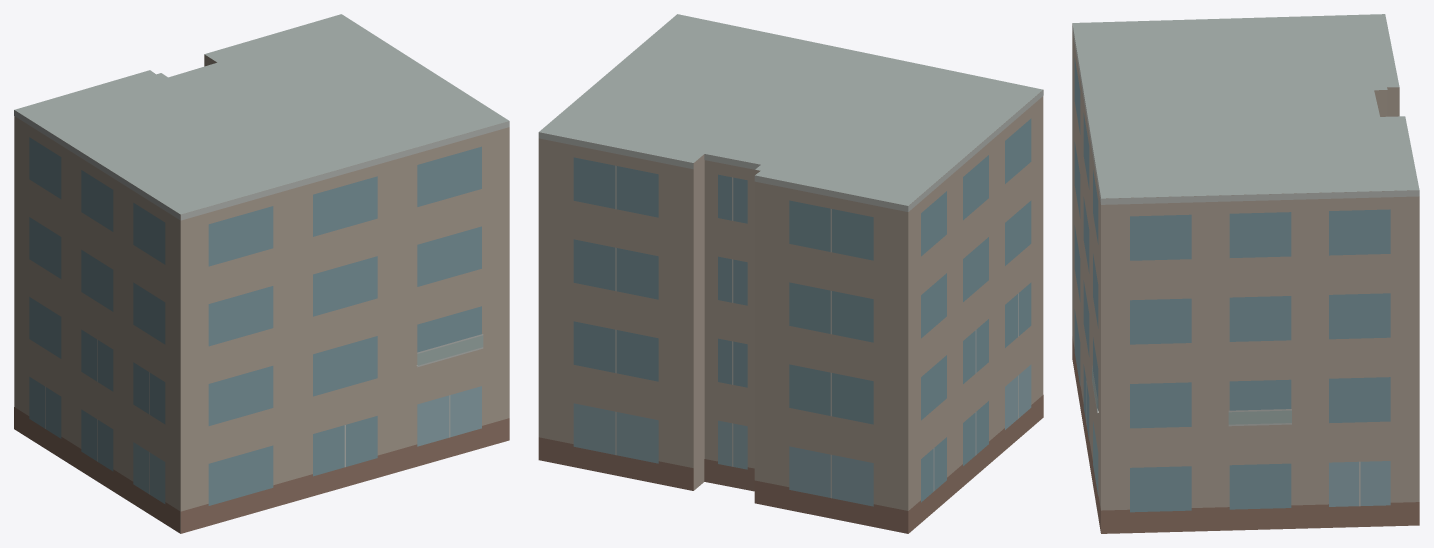
The model's file is survey-upis-32915826.glb.
3 renders of one model, left to right at view 1: azimuth 30°, elevation 25°; view 2: azimuth 150°, elevation 25°; view 3: azimuth 270°, elevation 25°, orthographic. The views are drawn at different scales.
Visible parts, largest first — view 1: survey-upis-32915826.tmp; view 2: survey-upis-32915826.tmp; view 3: survey-upis-32915826.tmp.
Part boxes in pixels (x1,y1,x2,y2): survey-upis-32915826.tmp: (14, 14, 509, 533); survey-upis-32915826.tmp: (538, 14, 1043, 533); survey-upis-32915826.tmp: (1072, 14, 1419, 533).
Bounding box in the file's own units: 15.24 × 12.9 × 12.12.
